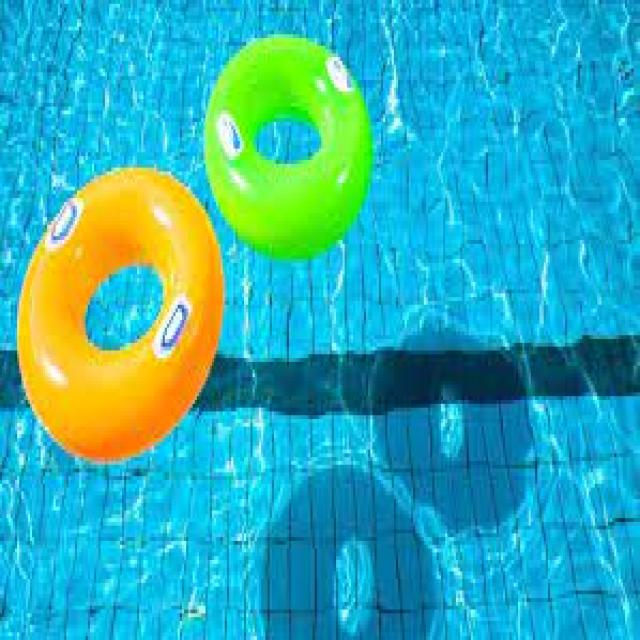litter: (18, 164, 225, 457), (207, 31, 373, 262)
